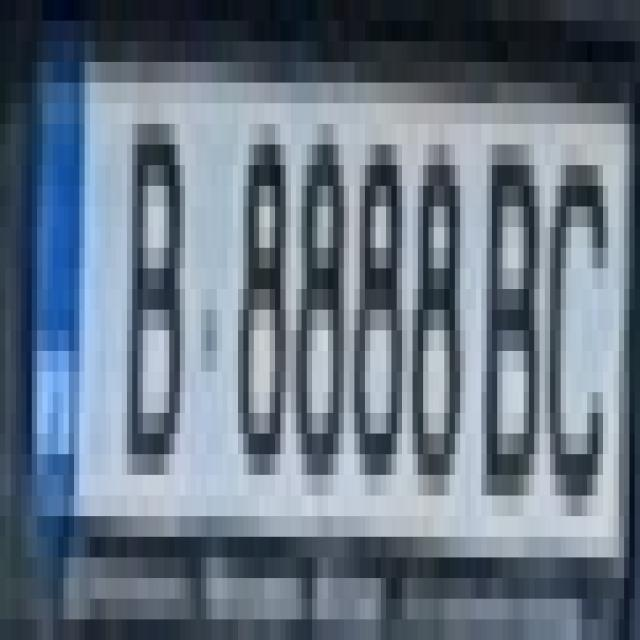8: (396, 82, 466, 475), (222, 82, 291, 454), (338, 82, 402, 475), (280, 82, 344, 454)
B: (466, 82, 534, 475), (111, 82, 180, 454)
C: (534, 103, 603, 474)
